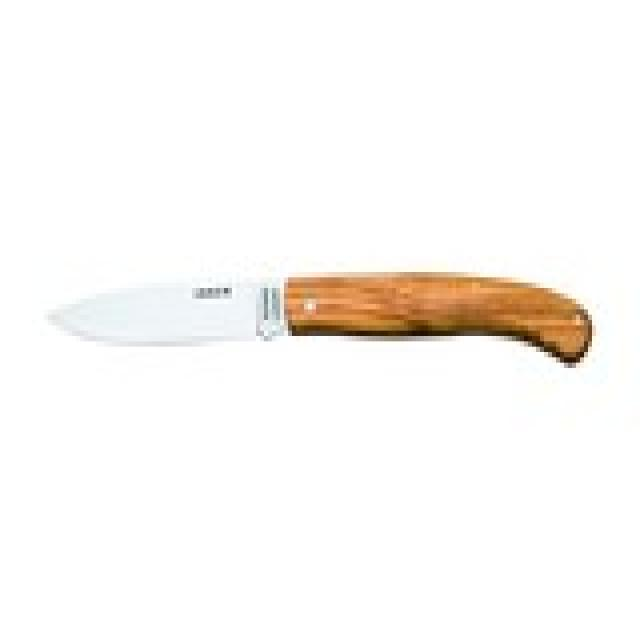Knife: (37, 246, 596, 386)
